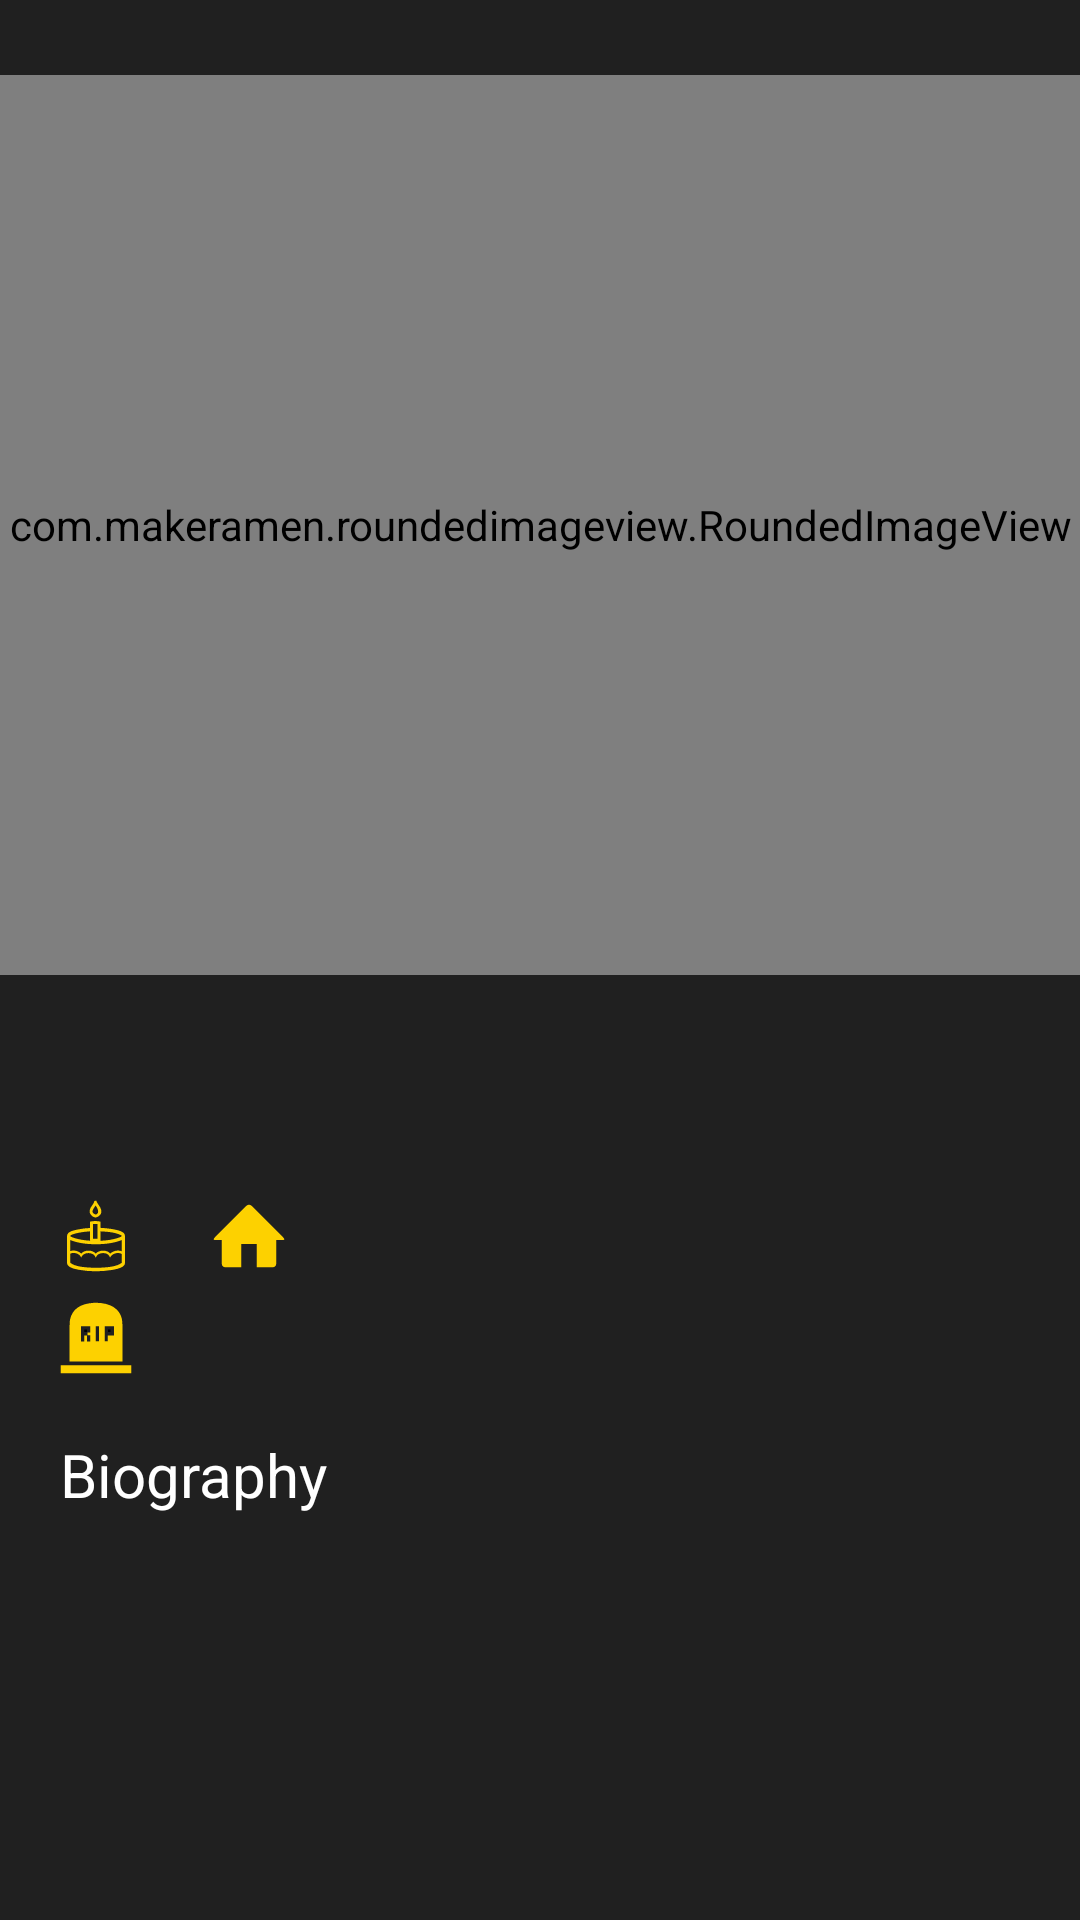

Icons on this 1080px x 1920px Android screen, each with its box as bbox=[x1, y1, x2, y2]:
birthdayicon: bbox=[67, 1200, 125, 1272]
birthdayplaceicon: bbox=[213, 1204, 285, 1268]
